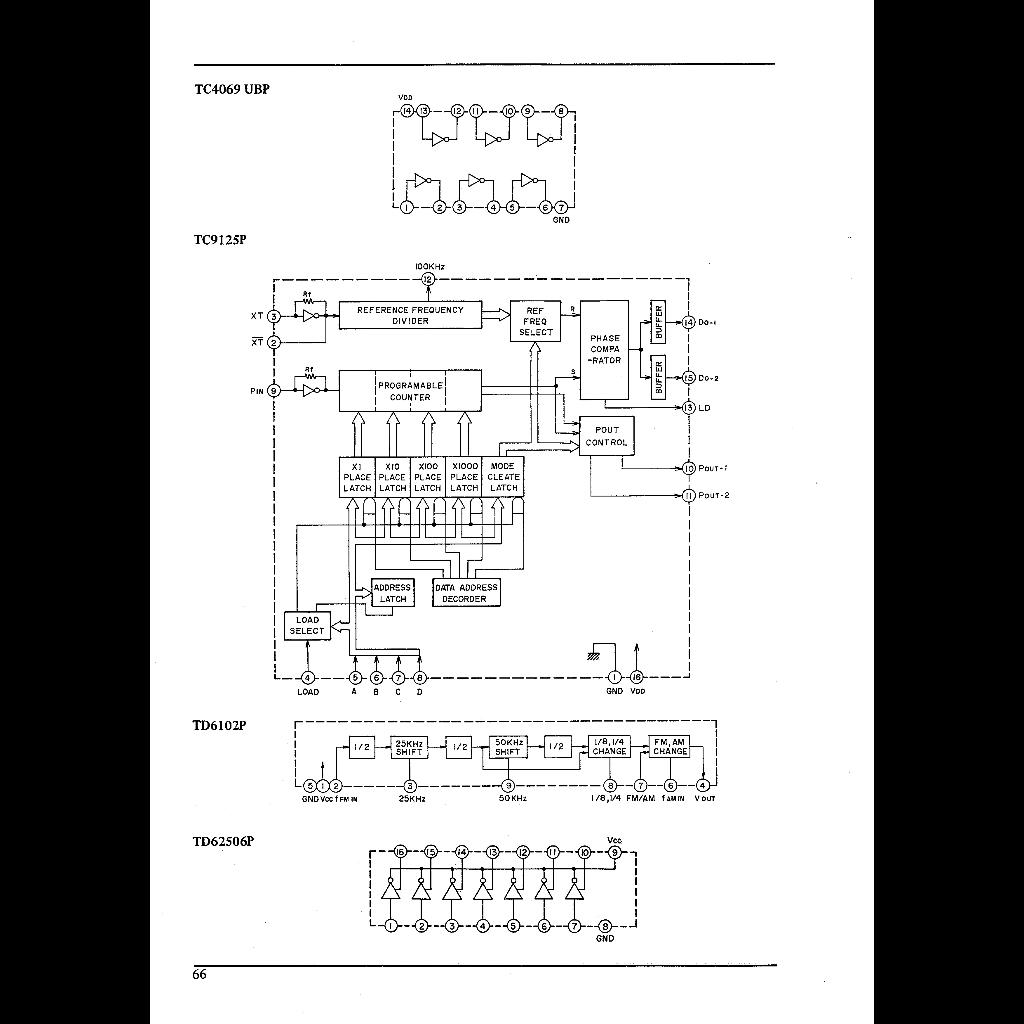Diagram: (238, 259, 750, 703), (284, 714, 732, 810), (356, 830, 650, 948), (382, 87, 588, 229)
